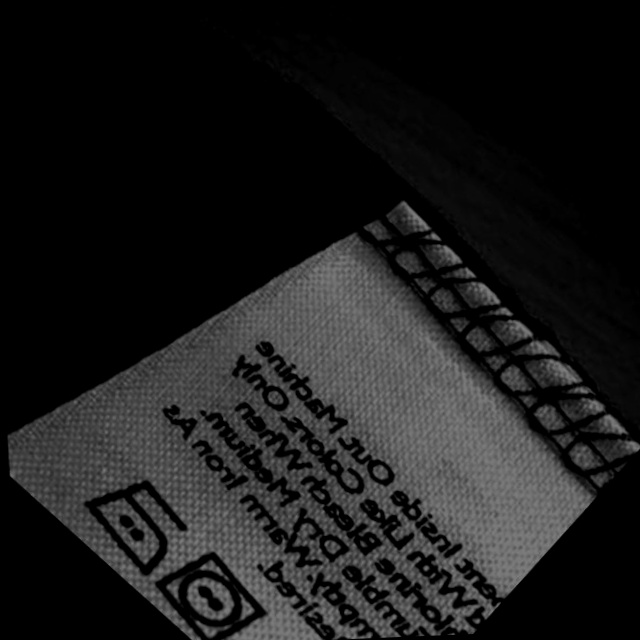iron_medium: (77, 478, 187, 575)
tumble_dry_medium: (152, 552, 265, 640)
